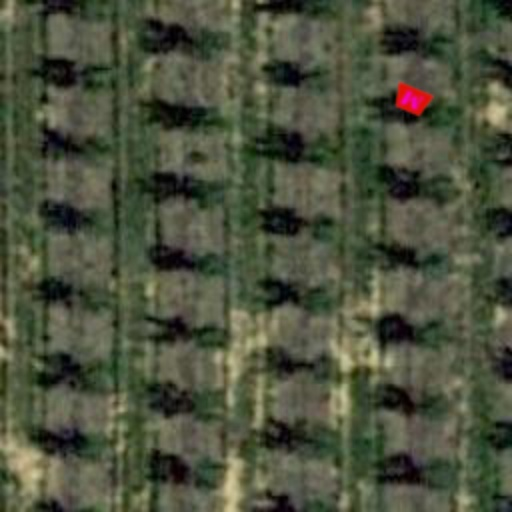trapezoid: (386, 74, 438, 126)
